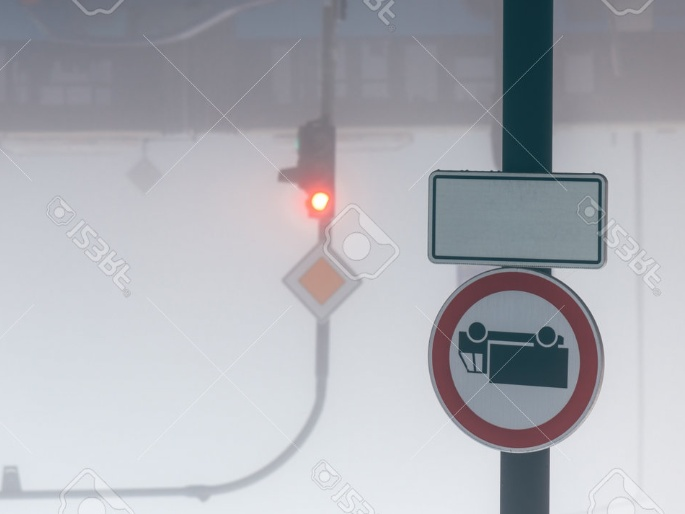Heavy Vehicles: (414, 259, 623, 461)
